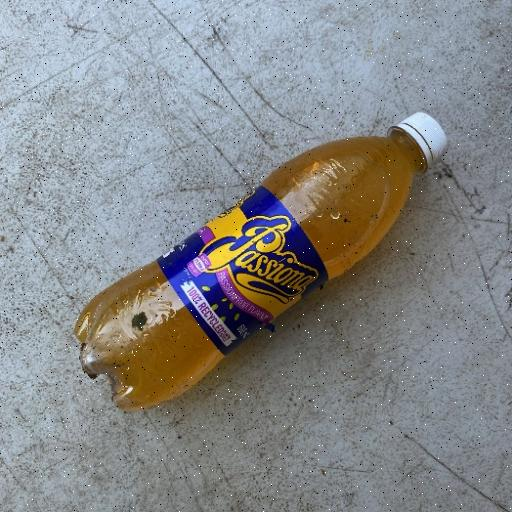Plastic: (72, 108, 450, 414)
